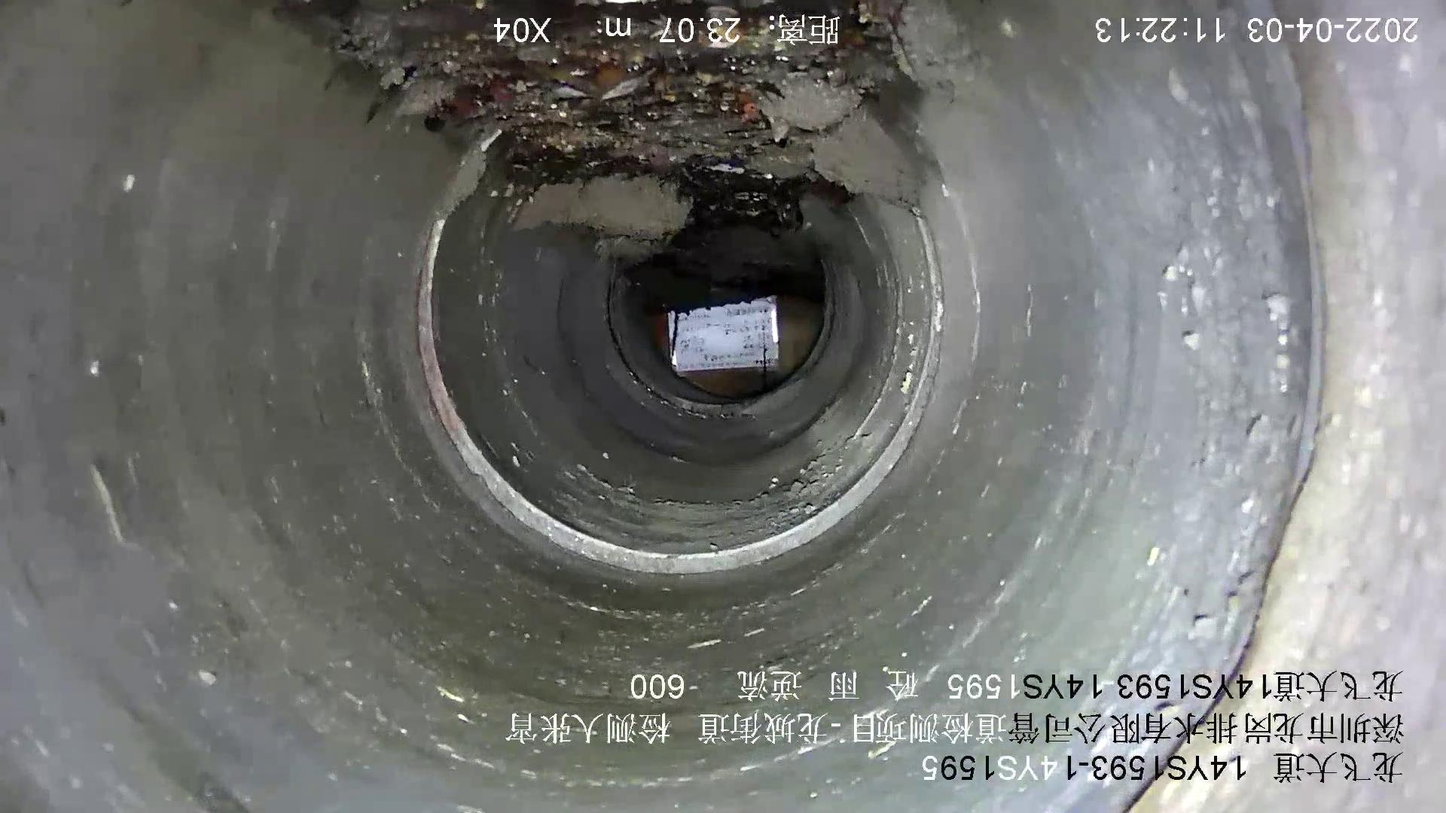CJ: (279, 1, 917, 312)
CKTJ: (409, 118, 950, 583), (603, 253, 837, 424)
